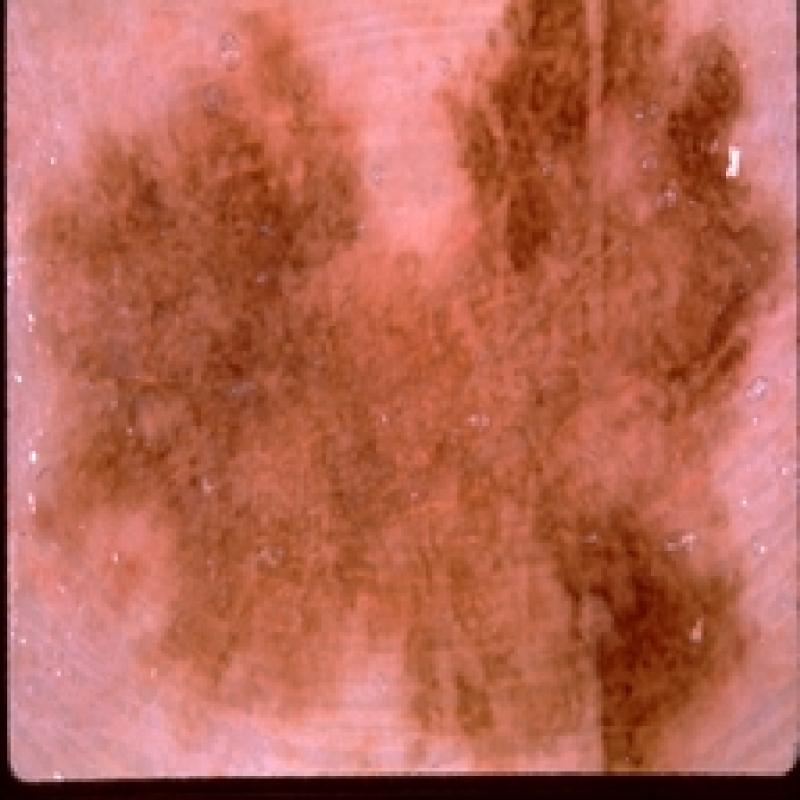malignant: (18, 2, 782, 760)
